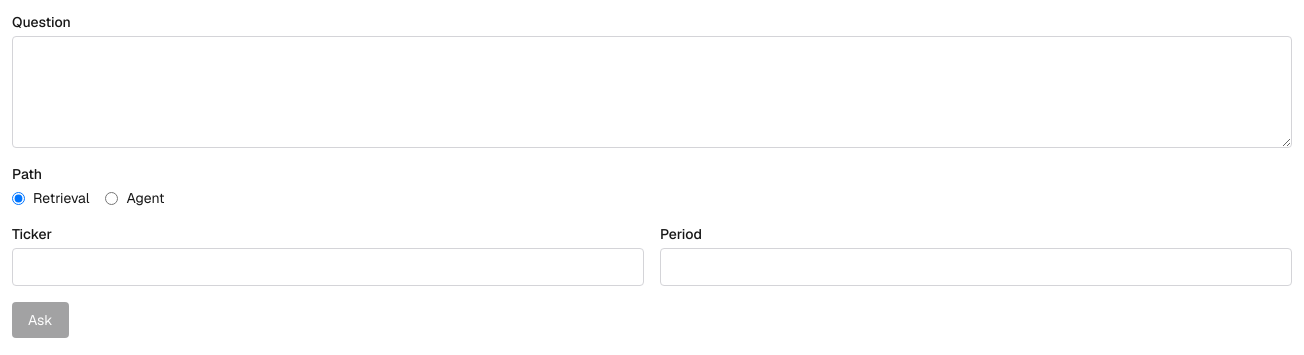
Scenario: AnswerBody › hides ticker and period on the agent path
expect the field with test id "ticker" is shown: met, box [12,248,644,286]
expect the field with test id "period" is shown: met, box [660,248,1292,286]
Click the radio button labelled "Agent": (112,198) [105,192,118,204]
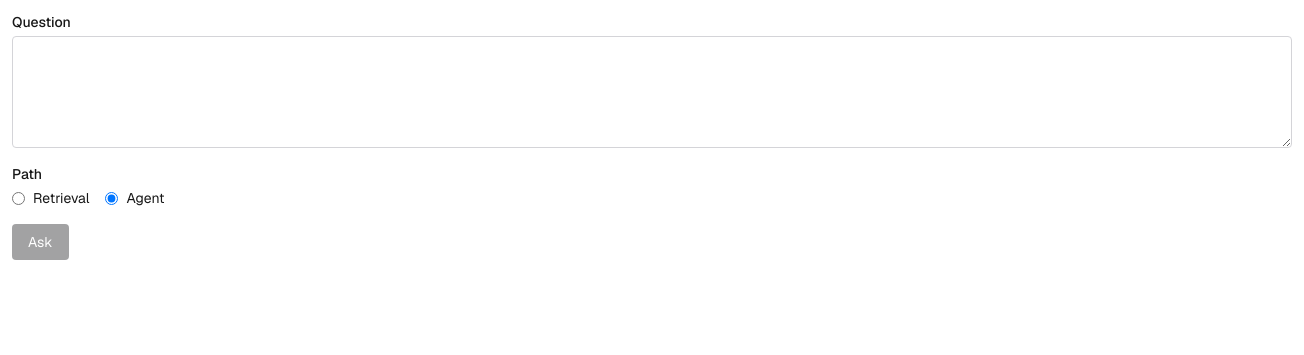
expect the radio button labelled "Retrieval" is shown: met, box [12,192,25,204]
expect the field with test id "ticker" is gone: met
expect the field with test id "period" is gone: met
